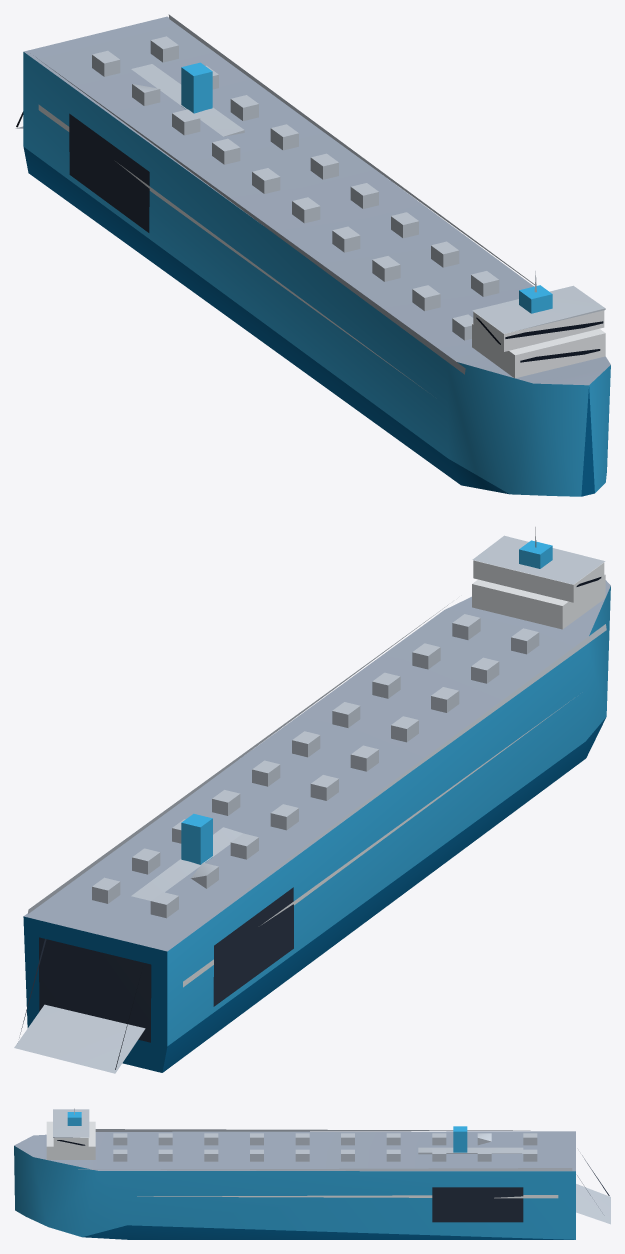
File: roro_ship.glb
The picture shows the model from 3 angles, top to bottom: view 1: azimuth 30°, elevation 25°; view 2: azimuth 150°, elevation 25°; view 3: azimuth 270°, elevation 25°; orthographic projection. The views are drawn at different scales.
Visible parts, largest first — view 1: roro_ship; view 2: roro_ship; view 3: roro_ship.
Part boxes in pixels (x1=…): roro_ship: x1=15, y1=14, x2=610, y2=496; roro_ship: x1=14, y1=527, x2=610, y2=1073; roro_ship: x1=14, y1=1108, x2=610, y2=1239.
Size of the model in its own units: 27.13 by 37.5 by 170.
1 material, 1 textured.
